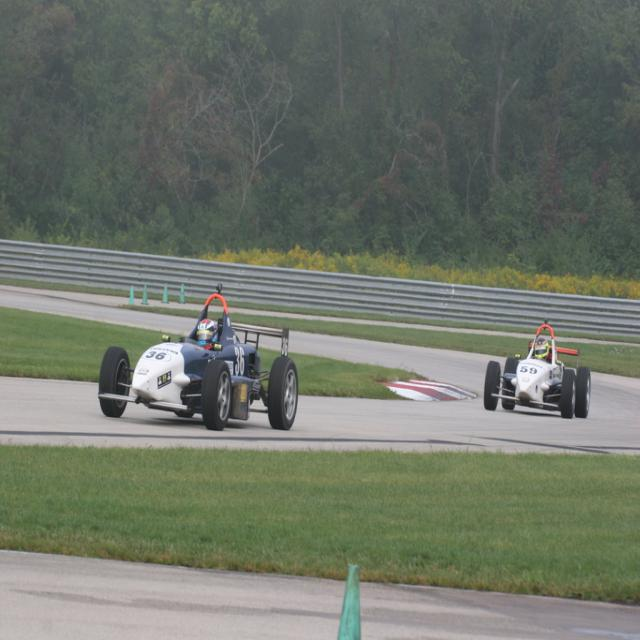car: (97, 274, 308, 433), (480, 316, 591, 430)
